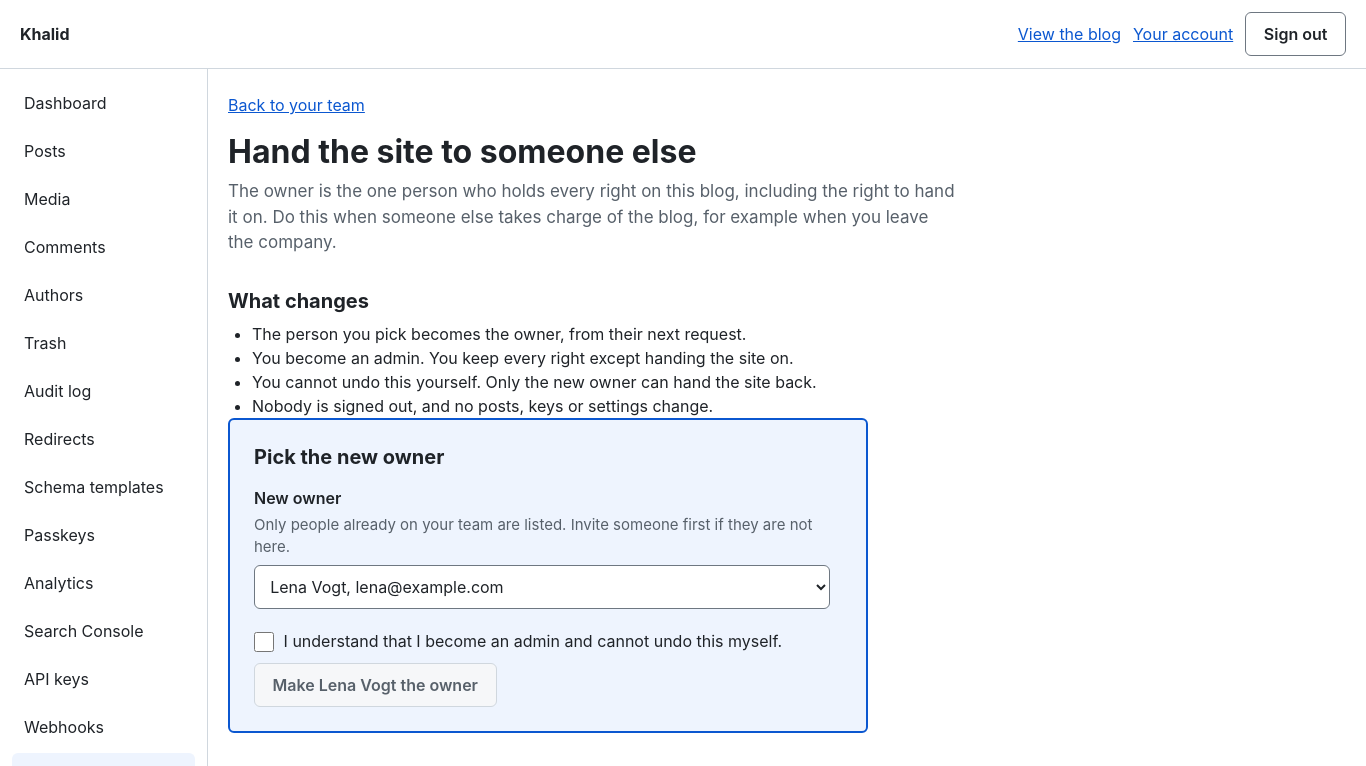
Test case: the hand-over screen › shows the API's words when someone other than the owner tries
This screenshot has width=1366, height=766.
Click the checkbox labelled "I understand that I become an admin and cannot undo this myself.": (264, 642) [254,632,274,652]
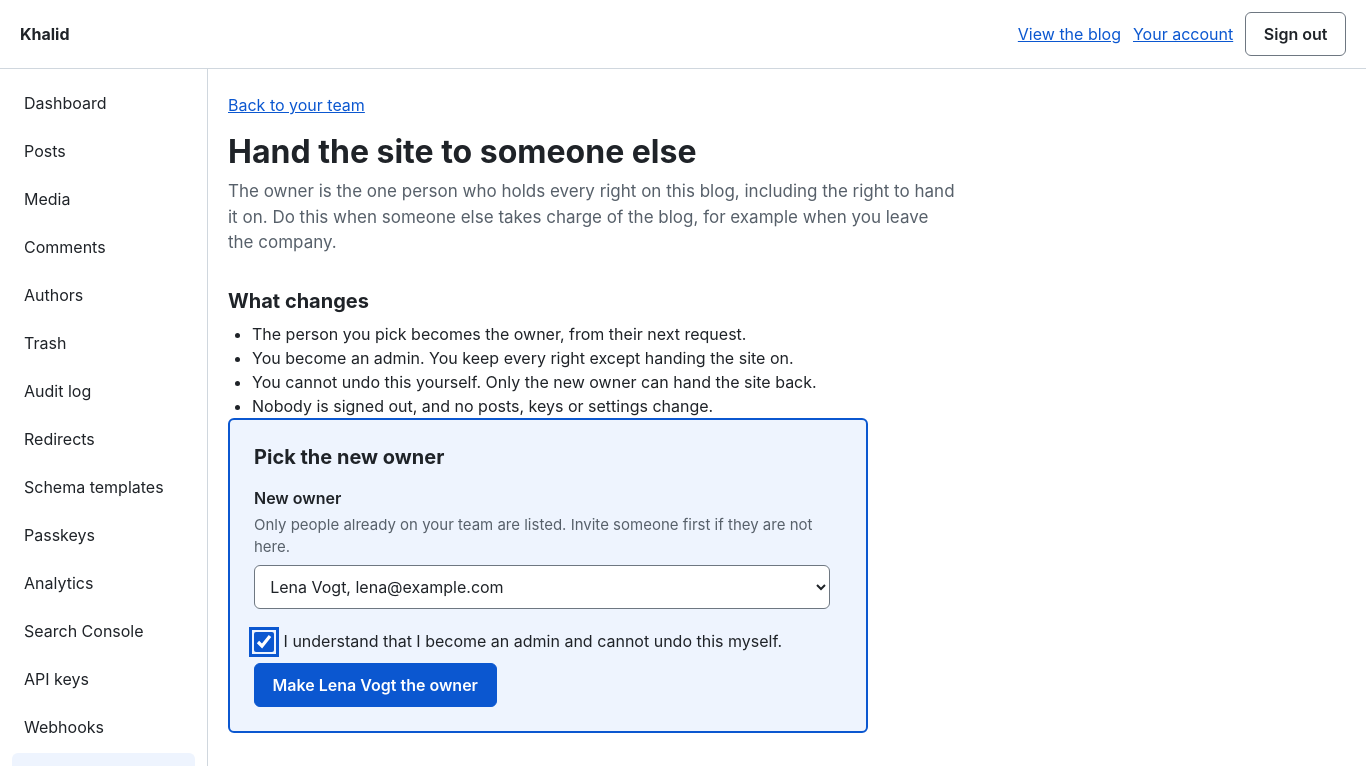
Click the button "Make Lena Vogt the owner": (375, 685) [254,663,496,707]
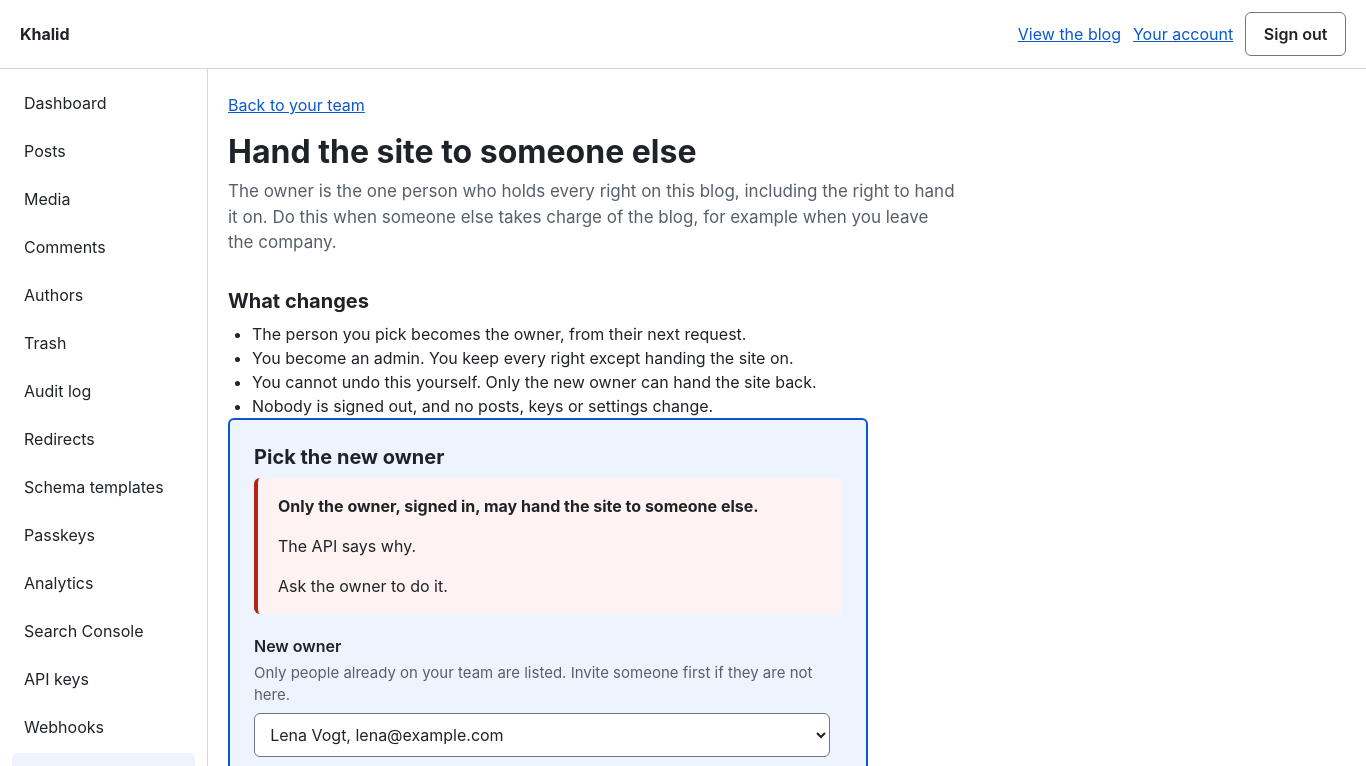
Expected: the text "Only the owner, signed in, may hand the site to someone else." is shown, [278,496,759,516]
